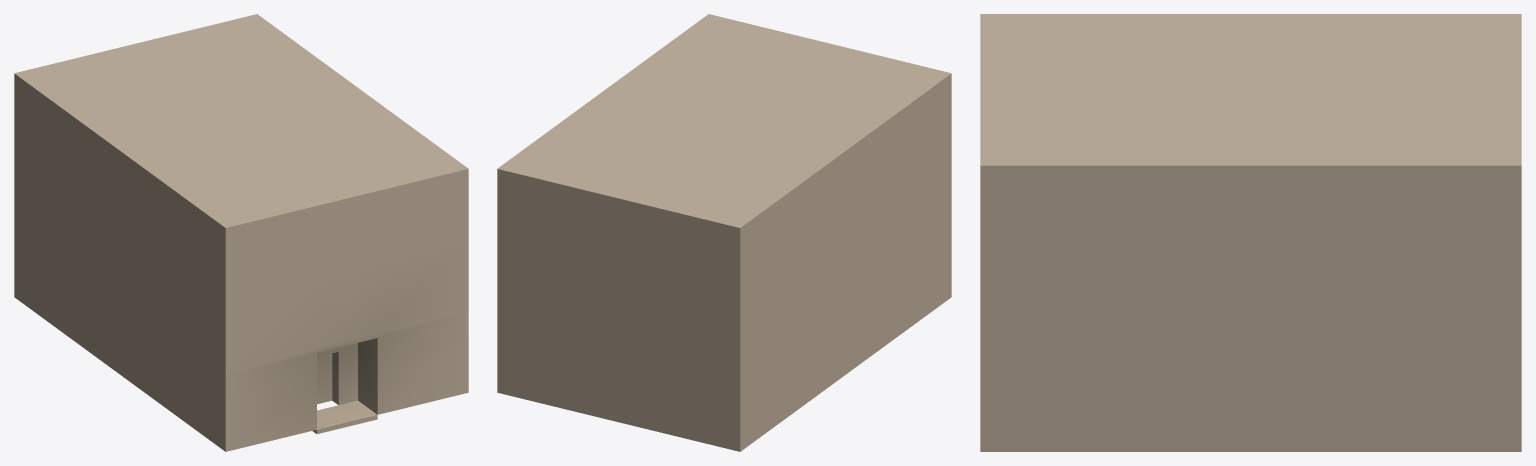
Rendered from massing.glb.
The picture shows the model from 3 angles, left to right: view 1: azimuth 30°, elevation 25°; view 2: azimuth 150°, elevation 25°; view 3: azimuth 270°, elevation 25°; orthographic projection. The views are drawn at different scales.
Parts seen in each view (by area): view 1: building/exterior; view 2: building/exterior; view 3: building/exterior.
Part boxes in pixels (x1,y1,x2,y2): building/exterior: (14, 14, 468, 451); building/exterior: (497, 14, 951, 451); building/exterior: (980, 14, 1521, 451).
Size of the model in its own units: 10 by 8.98 by 15.07.
